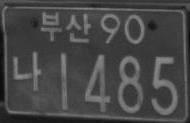0: (124, 13, 145, 45)
1: (50, 52, 80, 109)
4: (83, 53, 111, 113)
5: (150, 55, 179, 116)
8: (117, 54, 144, 114)
9: (99, 12, 120, 44)
나: (12, 51, 41, 92)
부산_O: (40, 10, 91, 43)
